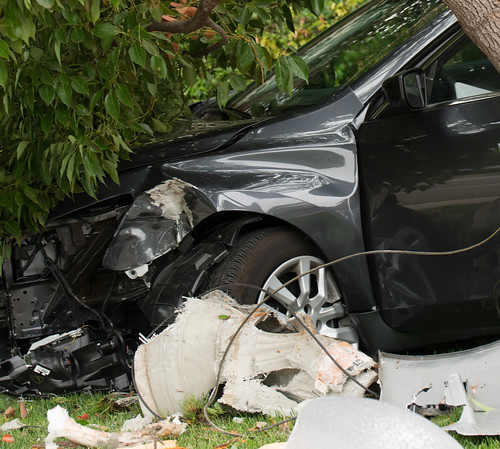car: (3, 20, 500, 374)
trash: (105, 303, 470, 449)
vegetation: (21, 1, 246, 196)
